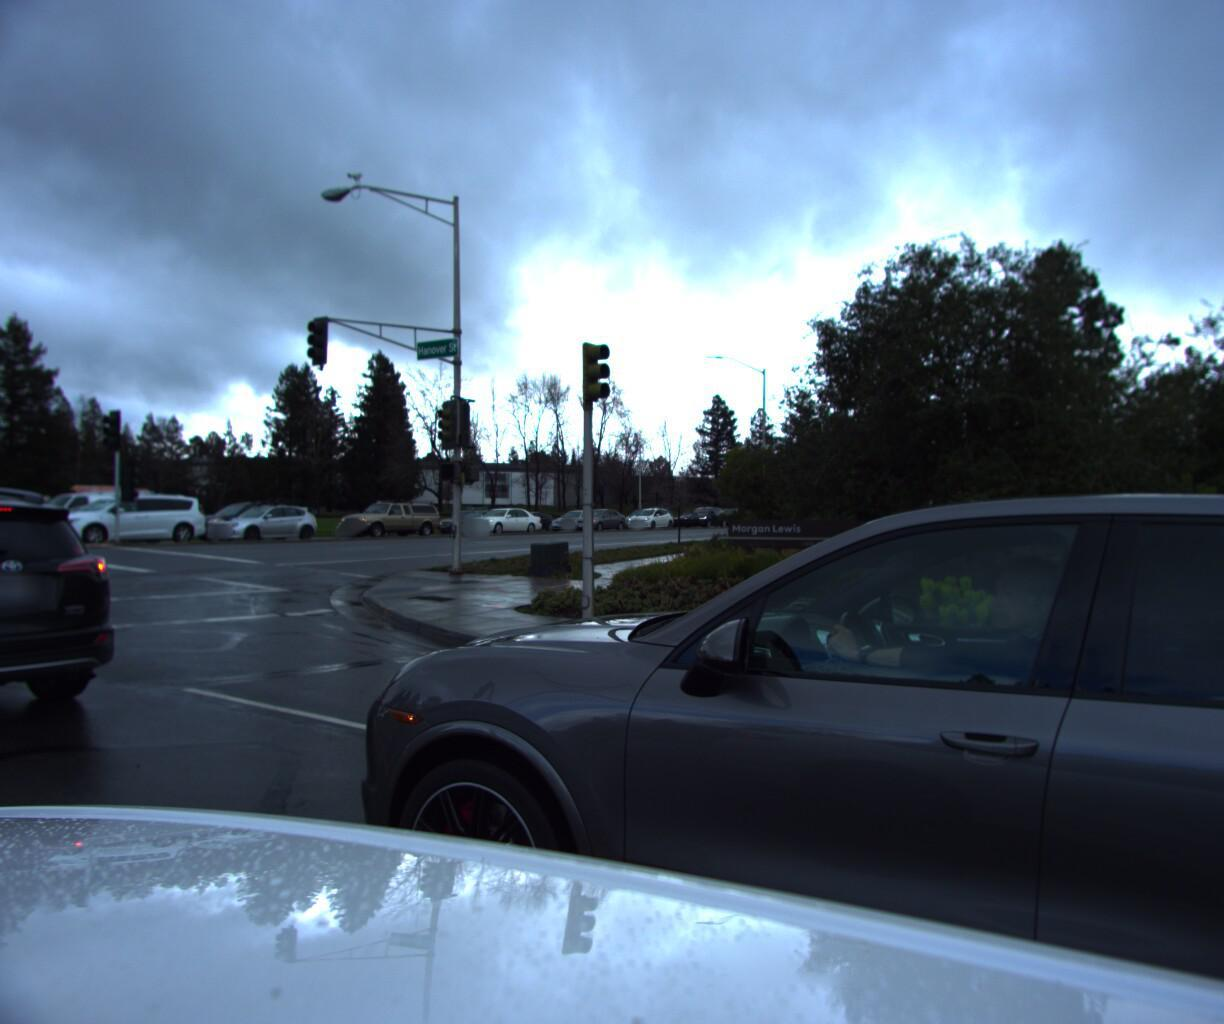car: (279, 363, 1224, 1024), (0, 465, 157, 760), (0, 481, 174, 547), (29, 494, 209, 549), (194, 492, 325, 543), (332, 495, 446, 540), (176, 502, 295, 542), (458, 504, 545, 537), (567, 506, 632, 534), (430, 506, 494, 534), (546, 509, 605, 533), (623, 504, 676, 530), (684, 509, 728, 528)
